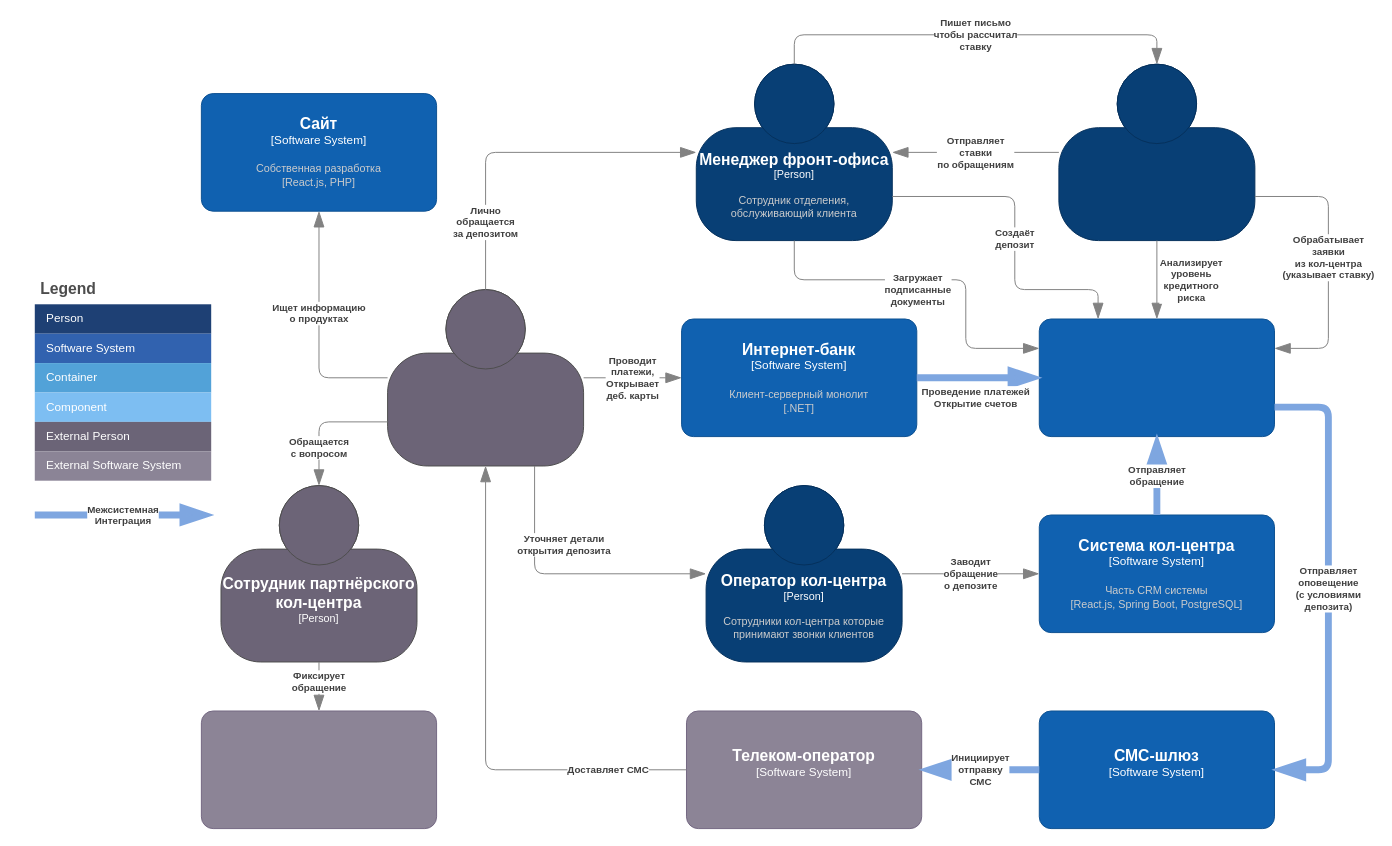
Image size: 1392x846. Some labels were removed from this diagram. Here are the shapes that lost their labels. From the top down, the centre of each, then its label:
the point at 1156,152: Менеджер бэк-офиса [Person] Сотрудники поддерживающие внутренние процессы
the point at 485,377: Клиент банка [Person] Человек заинтересованный в продуктах банка
the point at 1156,377: АБС [Software System] Автоматизированная банковская система [Delphi, Oracle DB]
the point at 318,769: Система партнёрского кол-центра [Software System]
